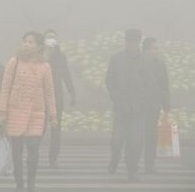person: (2, 30, 55, 190), (105, 27, 148, 173), (137, 35, 180, 173), (36, 26, 77, 168)
